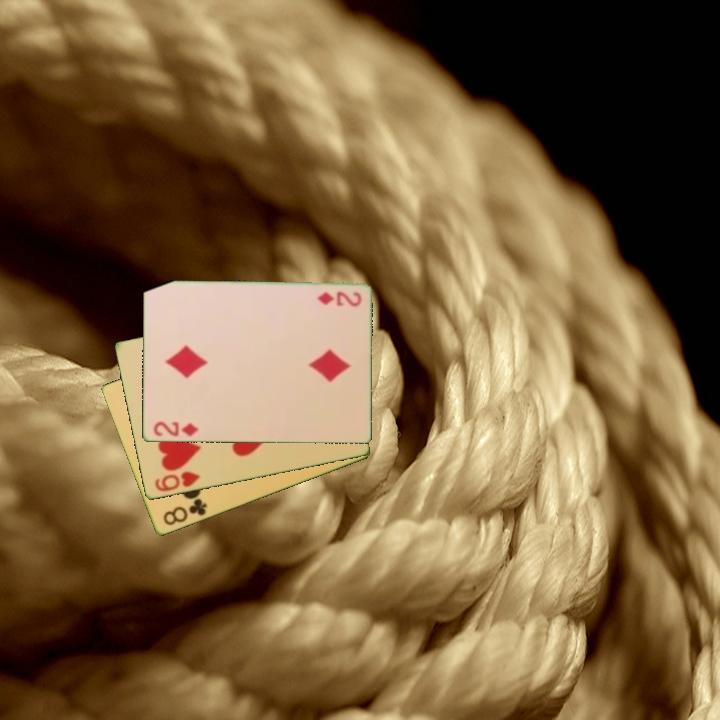2d: (150, 418, 201, 439), (313, 288, 364, 308)
6h: (151, 468, 203, 495)
8c: (159, 495, 210, 529)
